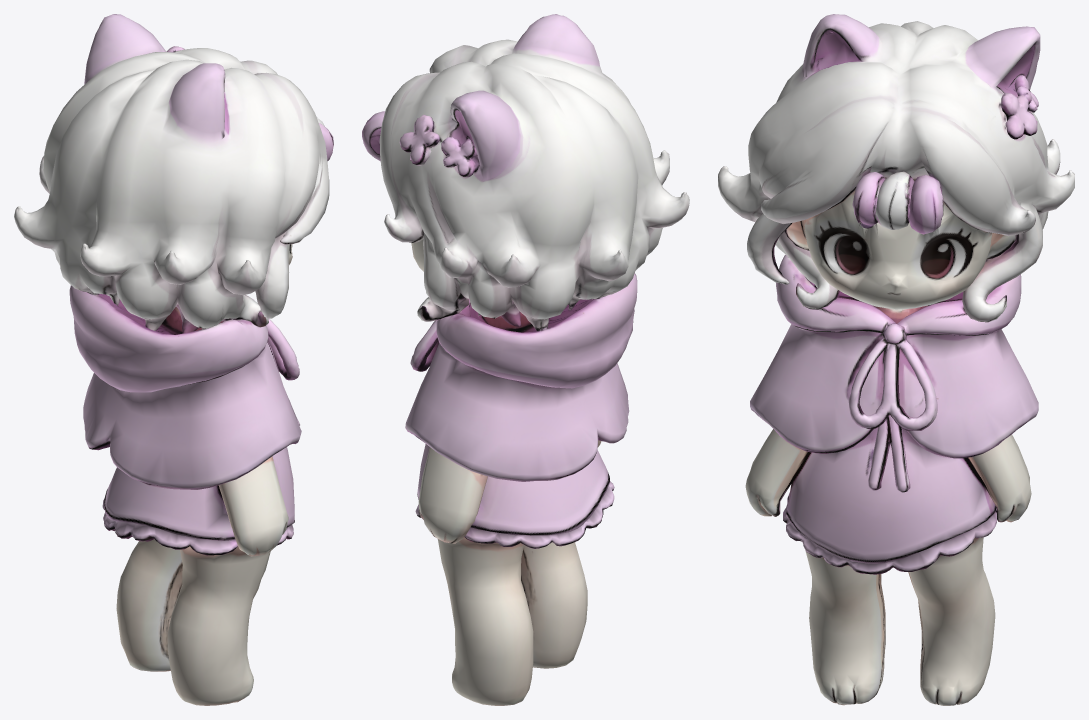
The picture shows the model from 3 angles, left to right: view 1: azimuth 30°, elevation 25°; view 2: azimuth 150°, elevation 25°; view 3: azimuth 270°, elevation 25°; orthographic projection. The views are drawn at different scales.
Parts seen in each view (by area): view 1: 66651dfa-7044-4e91-a9eb-59edf5a20eb7; view 2: 66651dfa-7044-4e91-a9eb-59edf5a20eb7; view 3: 66651dfa-7044-4e91-a9eb-59edf5a20eb7.
Part boxes in pixels (x1=…): 66651dfa-7044-4e91-a9eb-59edf5a20eb7: x1=14, y1=14, x2=333, y2=705; 66651dfa-7044-4e91-a9eb-59edf5a20eb7: x1=362, y1=14, x2=689, y2=705; 66651dfa-7044-4e91-a9eb-59edf5a20eb7: x1=718, y1=14, x2=1074, y2=705.
Bounding box in the file's own units: 0.459 × 0.998 × 0.4824.
1 material, 1 textured.
